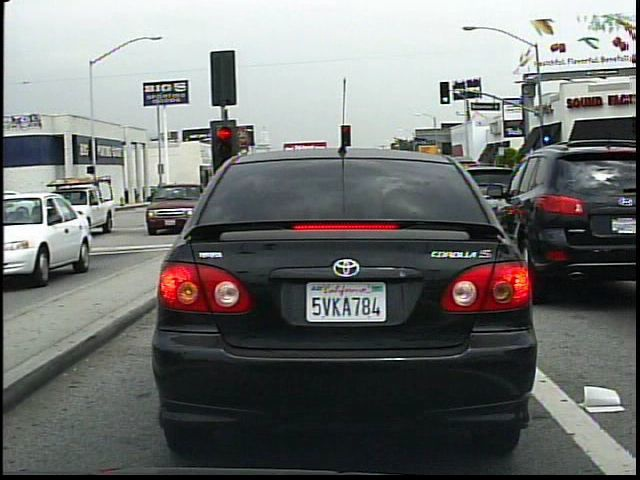person: (164, 172, 186, 200)
